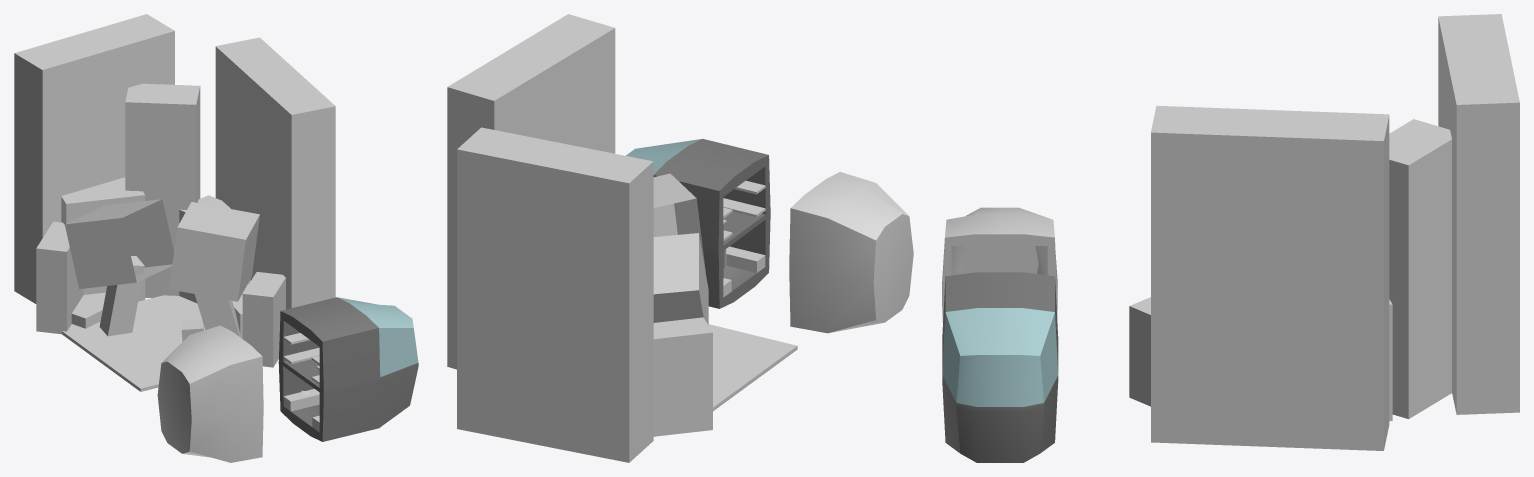
Rendered from Scene Blockout.fbx.
3 views of the same model, side by side, from view 1: azimuth 30°, elevation 25°; view 2: azimuth 150°, elevation 25°; view 3: azimuth 270°, elevation 25° (orthographic). The views are drawn at different scales.
Visible parts, largest first — view 1: Box002, Box001, Submarine, Submarine Half 1, Submarine Half 2, Box013, Ground, Box008, Box007, Submarine Window, Box005, Box004 (+4 smaller); view 2: Box001, Box002, Submarine Half 2, Submarine Half 1, Submarine, Box008, Ground, Submarine Window, Desk; view 3: Box002, Box001, Box013, Submarine Window, Submarine Half 1, Submarine Half 2, Box007.
Boxes of the visible parts, left/top/right/bottom form: Box002: left=215, top=37, right=335, bottom=309; Box001: left=14, top=14, right=174, bottom=303; Submarine: left=64, top=199, right=259, bottom=301; Submarine Half 1: left=278, top=297, right=418, bottom=441; Submarine Half 2: left=157, top=325, right=263, bottom=462; Box013: left=125, top=83, right=200, bottom=298; Ground: left=62, top=295, right=204, bottom=391; Box008: left=36, top=221, right=83, bottom=334; Box007: left=242, top=272, right=285, bottom=367; Submarine Window: left=338, top=297, right=418, bottom=376; Box005: left=61, top=177, right=145, bottom=301; Box004: left=99, top=256, right=144, bottom=336; Box001: left=457, top=127, right=653, bottom=462; Box002: left=447, top=14, right=615, bottom=369; Submarine Half 2: left=789, top=172, right=913, bottom=333; Submarine Half 1: left=653, top=139, right=770, bottom=308; Submarine: left=653, top=173, right=708, bottom=324; Box008: left=653, top=317, right=712, bottom=436; Ground: left=708, top=324, right=797, bottom=411; Submarine Window: left=626, top=139, right=701, bottom=174; Desk: left=726, top=246, right=765, bottom=272; Box002: left=1151, top=105, right=1389, bottom=450; Box001: left=1438, top=14, right=1519, bottom=414; Box013: left=1389, top=119, right=1451, bottom=419; Submarine Window: left=942, top=308, right=1058, bottom=406; Submarine Half 1: left=942, top=272, right=1058, bottom=462; Submarine Half 2: left=942, top=207, right=1057, bottom=321; Box007: left=1129, top=297, right=1150, bottom=406.
Bounding box in the file's own units: 75.62 × 79.4 × 124.
